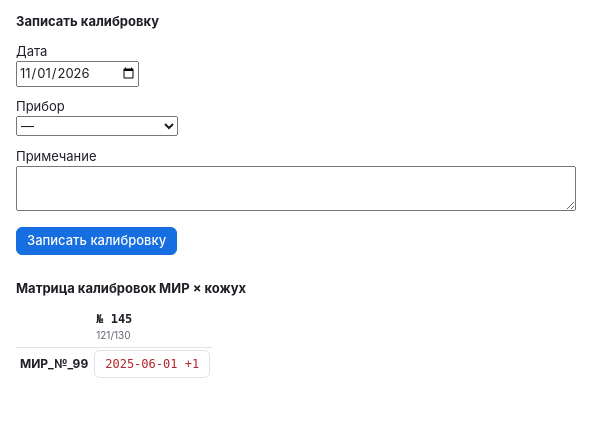
Test case: одиночный прибор (R23): только дата — без кожуха и файлов
Select "Инклинометр_№_12" in the dropdown labelled "Прибор" at (97, 126), box [16,116,178,136]
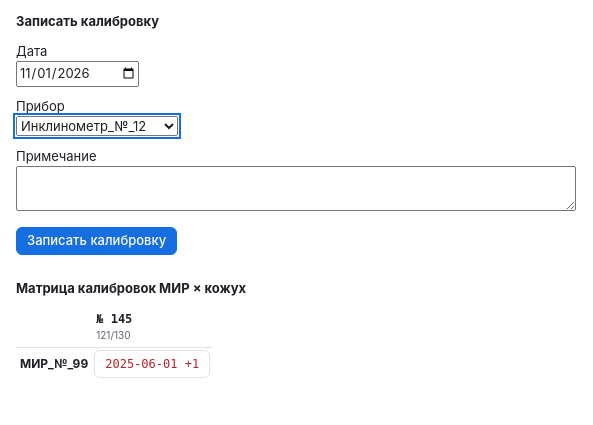
Click the button "Записать калибровку" at (97, 240), box [16,226,177,254]
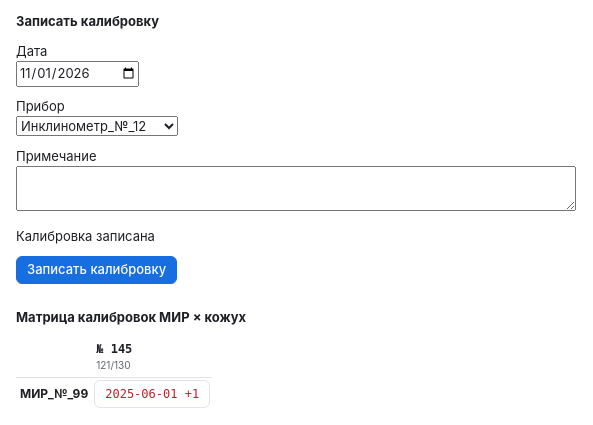
Check: the text "Калибровка записана" is shown, box [16,228,155,244]
